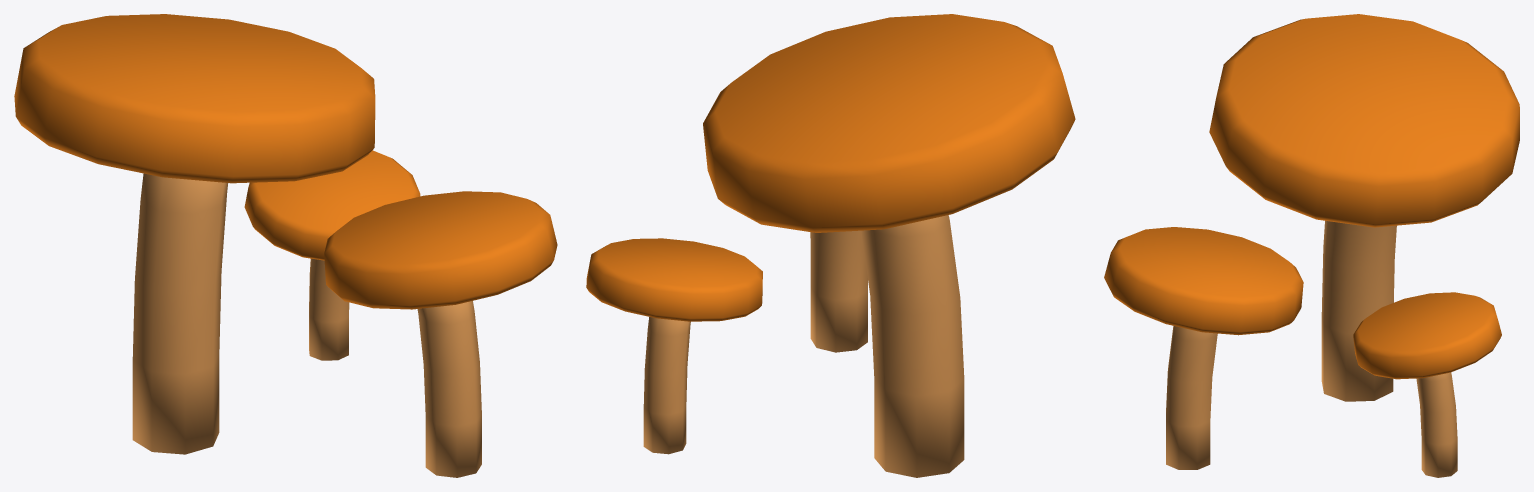
Rendered from PauninniksMushroom.fbx.
The picture shows the model from 3 angles, left to right: view 1: azimuth 30°, elevation 25°; view 2: azimuth 150°, elevation 25°; view 3: azimuth 270°, elevation 25°; orthographic projection. The views are drawn at different scales.
Parts seen in each view (by area): view 1: Cylinder.003; view 2: Cylinder.003; view 3: Cylinder.003.
Boxes of the visible parts, x1,y1,x2,y2 form: Cylinder.003: (14, 14, 557, 477); Cylinder.003: (586, 14, 1075, 477); Cylinder.003: (1104, 14, 1519, 477).
Bounding box in the file's own units: 21.54 × 19.43 × 22.25.
